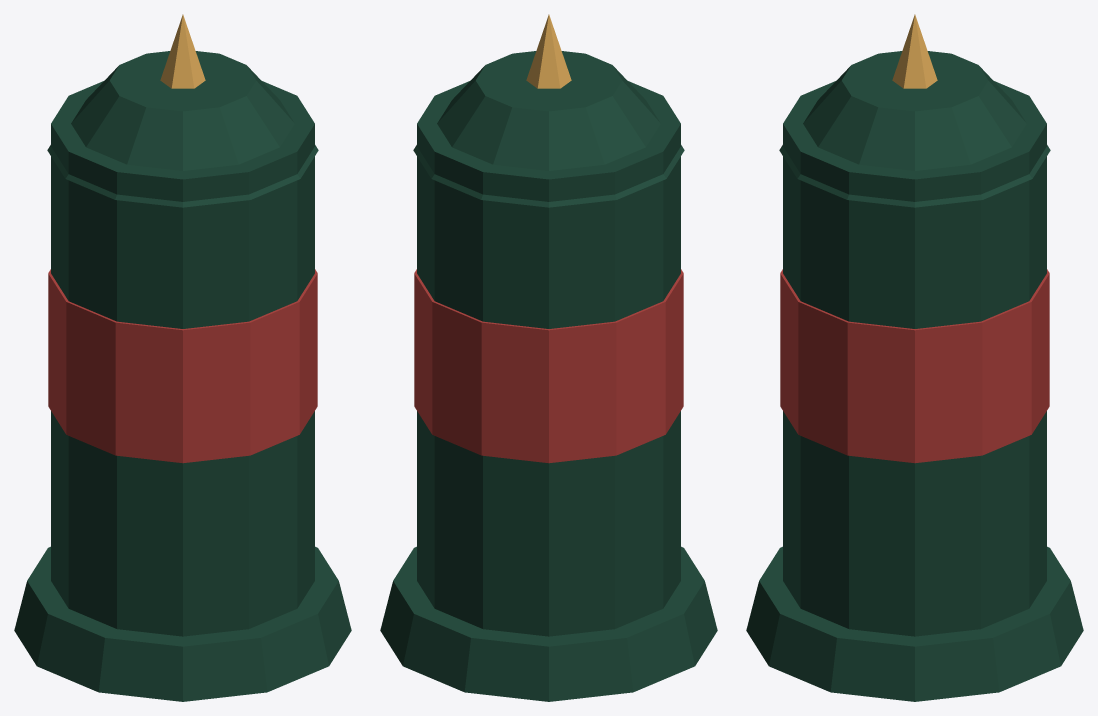
Rendered from morris_column.glb.
The picture shows the model from 3 angles, left to right: view 1: azimuth 30°, elevation 25°; view 2: azimuth 150°, elevation 25°; view 3: azimuth 270°, elevation 25°; orthographic projection.
Visible parts, largest first — view 1: morris_column; view 2: morris_column; view 3: morris_column.
Boxes of the visible parts, x1=… form: morris_column: x1=14, y1=14, x2=351, y2=701; morris_column: x1=380, y1=14, x2=717, y2=701; morris_column: x1=746, y1=14, x2=1083, y2=701.
Size of the model in its own units: 1.84 by 3.71 by 1.84.
